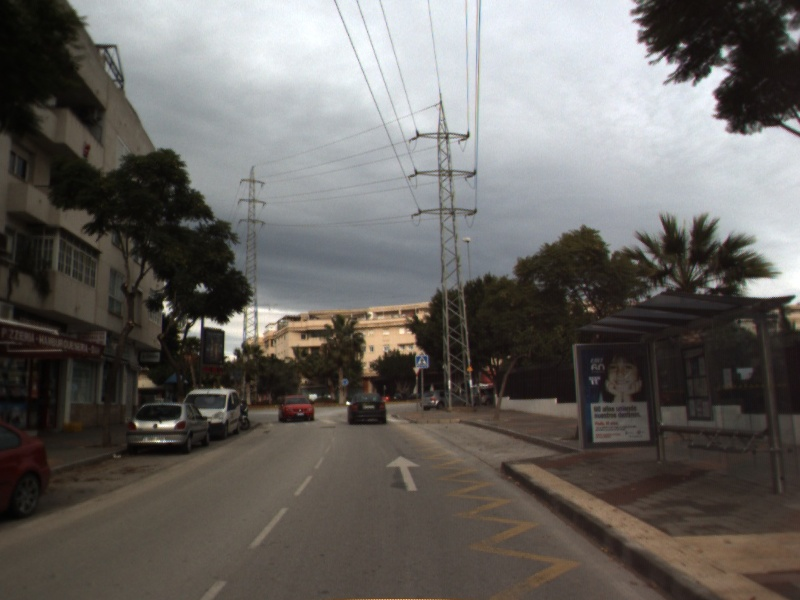STRAIGHT: (384, 454, 424, 493)
